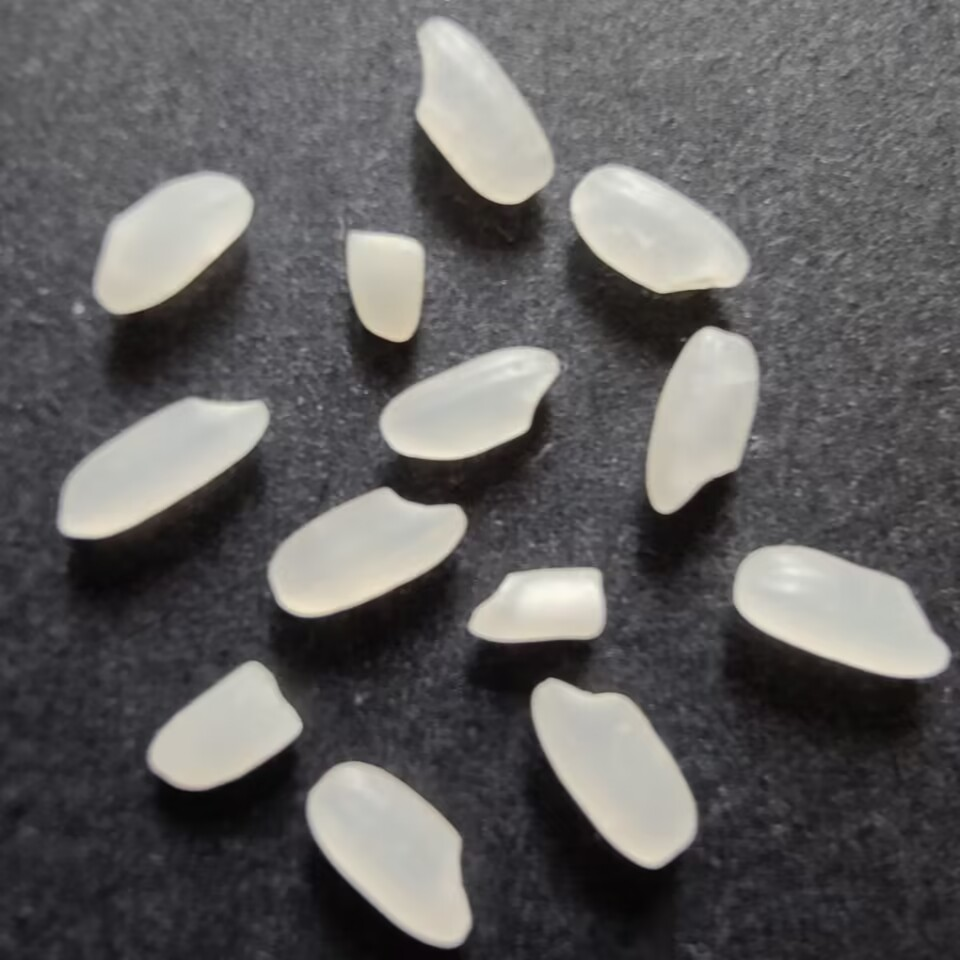broken: (146, 655, 303, 802), (454, 562, 609, 651), (340, 227, 432, 351)
rice: (528, 677, 706, 875), (301, 759, 483, 952), (51, 391, 277, 545), (727, 544, 954, 681), (409, 13, 560, 208), (269, 482, 471, 619), (564, 162, 753, 294), (92, 166, 254, 315), (644, 322, 764, 517), (371, 342, 562, 462)
